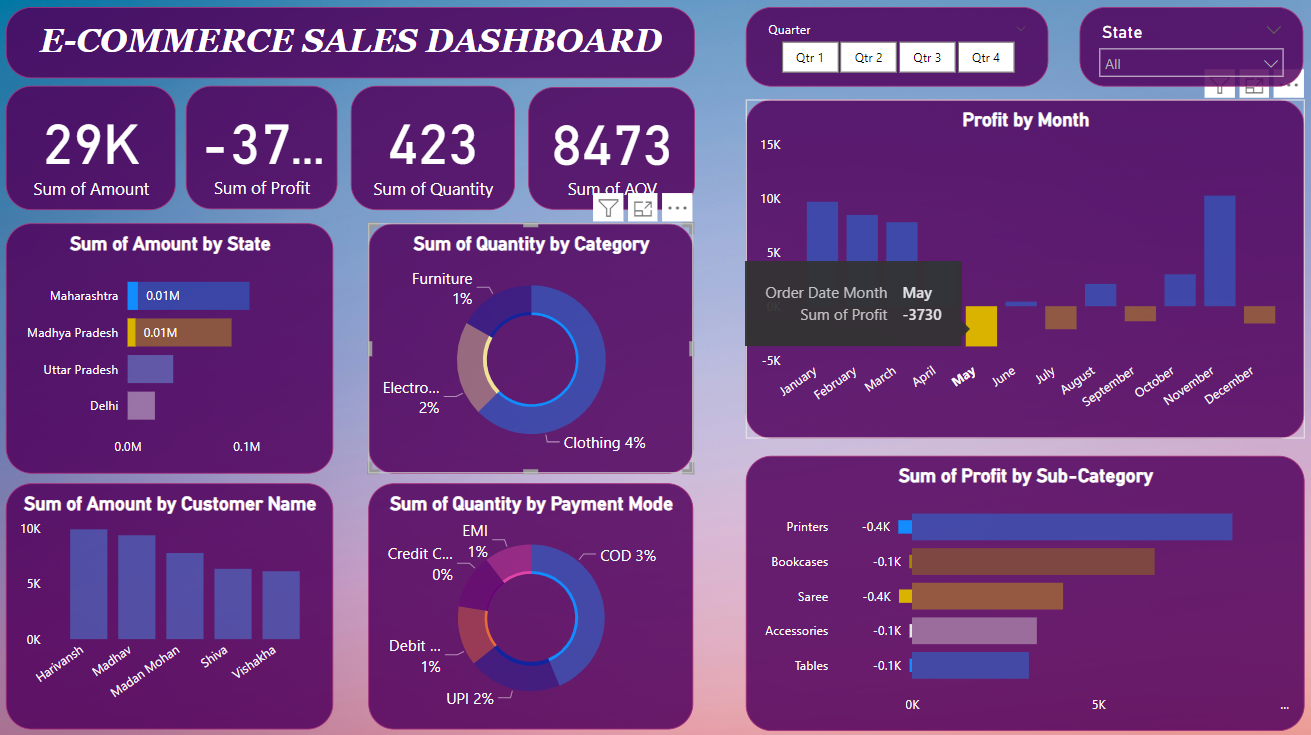

This screenshot's page, from the dashboard's own definition file:
{"tool":"powerbi","page":{"name":"Page 1","canvas":[1280,720],"ordinal":0},"visuals":[{"type":"textbox","box":[13.3,14.5,664.5,68.7],"z":0},{"type":"columnChart","title":"Profit by Month","fields":{"Category":["Orders.Order Date.Variation.Date Hierarchy.Month"],"Y":["Sum(Details.Profit)"]},"box":[727.2,103.7,539.1,326.8],"z":1000},{"type":"barChart","fields":{"Category":["Details.Sub-Category"],"Y":["Sum(Details.Profit)"]},"box":[726,445,539.1,266.5],"z":2000},{"type":"donutChart","fields":{"Category":["Details.Category"],"Y":["Sum(Details.Quantity)"]},"box":[363,223.1,313.6,241.2],"z":3000},{"type":"donutChart","title":"Sum of Quantity by Payment Mode","fields":{"Y":["Sum(Details.Quantity)"],"Category":["Details.PaymentMode"]},"box":[362.5,473.9,313.6,238.6],"z":4000},{"type":"card","fields":{"Values":["Sum(Details.Amount)"]},"box":[13,91,164,120],"z":5000},{"type":"card","fields":{"Values":["Sum(Details.Quantity)"]},"box":[346,90,158,120],"z":6000},{"type":"card","fields":{"Values":["Sum(Details.Profit)"]},"box":[187,91,146,119],"z":7000},{"type":"card","fields":{"Values":["Sum(Details.AOV)"]},"box":[517,92,161,118],"z":8000},{"type":"barChart","fields":{"Category":["Orders.State"],"Y":["Sum(Details.Amount)"]},"box":[13.3,223.1,316,241.2],"z":9000},{"type":"columnChart","title":"Sum of Amount by Customer Name","fields":{"Category":["Orders.CustomerName"],"Y":["Sum(Details.Amount)"]},"box":[13.6,473.9,315.9,238.6],"z":10000},{"type":"slicer","fields":{"Values":["Orders.Order Date.Variation.Date Hierarchy.Quarter"]},"box":[727.2,14.5,291.9,77.2],"z":11000},{"type":"slicer","fields":{"Values":["Orders.State"]},"box":[1049.2,14.5,215.9,77.2],"z":12000}]}

Visuals, with their boxes in screenshot pixels (x1, y1, x2, y2), scaled from the page's 1280x720 canvas onto the 1311x735 screenshot:
textbox: Rect(14, 15, 694, 85)
"Profit by Month" columnChart: Rect(745, 106, 1297, 439)
barChart - Details.Sub-Category x Sum(Details.Profit): Rect(744, 454, 1296, 726)
donutChart - Details.Category x Sum(Details.Quantity): Rect(372, 228, 693, 474)
"Sum of Quantity by Payment Mode" donutChart: Rect(371, 484, 692, 727)
card - Sum(Details.Amount): Rect(13, 93, 181, 215)
card - Sum(Details.Quantity): Rect(354, 92, 516, 214)
card - Sum(Details.Profit): Rect(192, 93, 341, 214)
card - Sum(Details.AOV): Rect(530, 94, 694, 214)
barChart - Orders.State x Sum(Details.Amount): Rect(14, 228, 337, 474)
"Sum of Amount by Customer Name" columnChart: Rect(14, 484, 337, 727)
slicer - Orders.Order Date.Variation.Date Hierarchy.Quarter: Rect(745, 15, 1044, 94)
slicer - Orders.State: Rect(1075, 15, 1296, 94)
